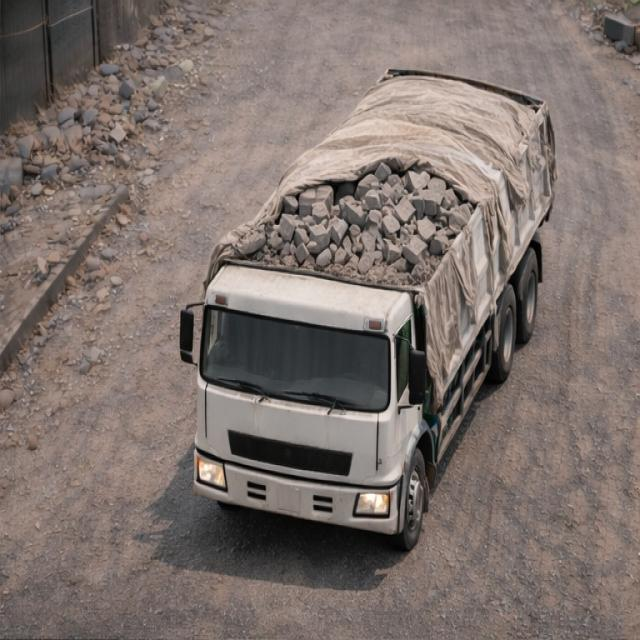trailer: (213, 64, 544, 296)
truck: (174, 59, 576, 552)
